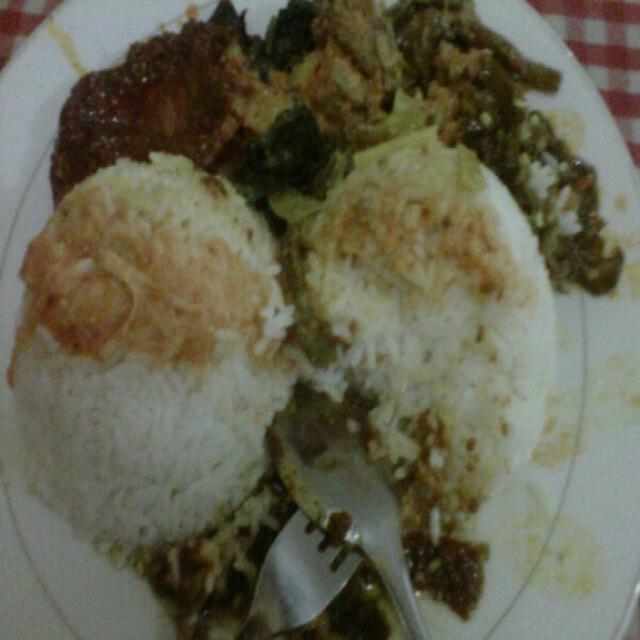米饭主食: (8, 10, 613, 624)
